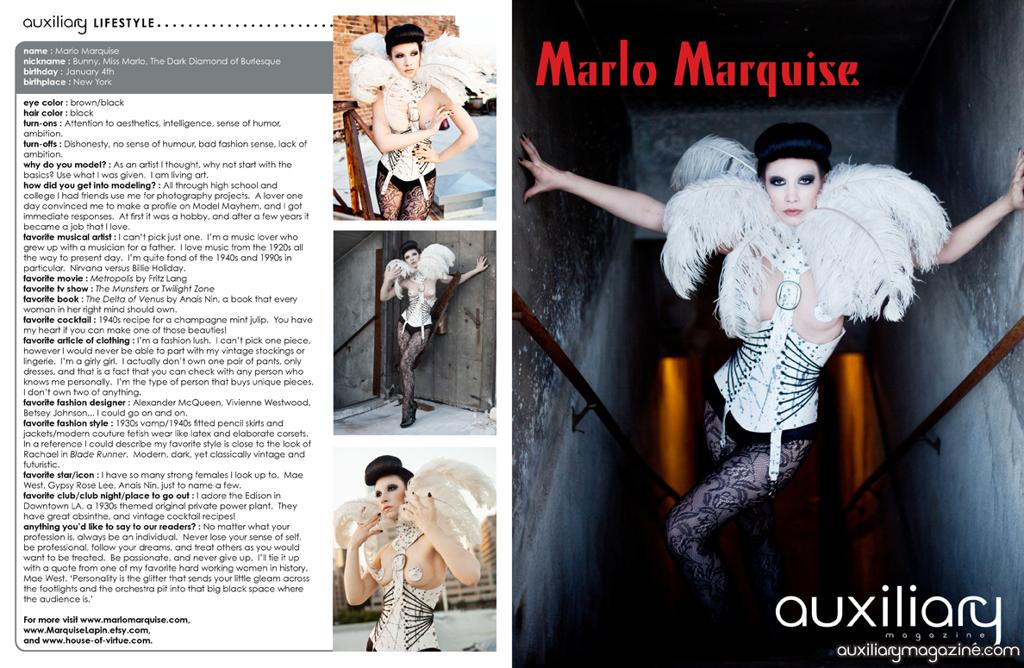face: (765, 160, 820, 225), (374, 476, 405, 518), (391, 43, 419, 77), (404, 250, 419, 267)
